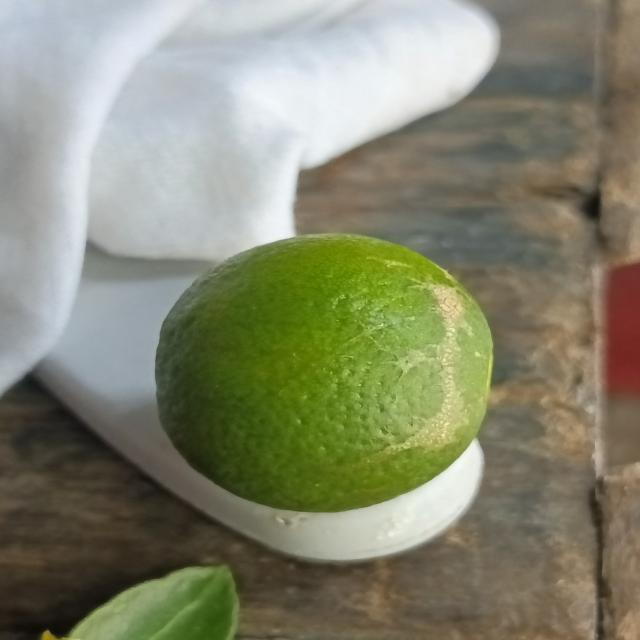thrips: (152, 232, 501, 511)
